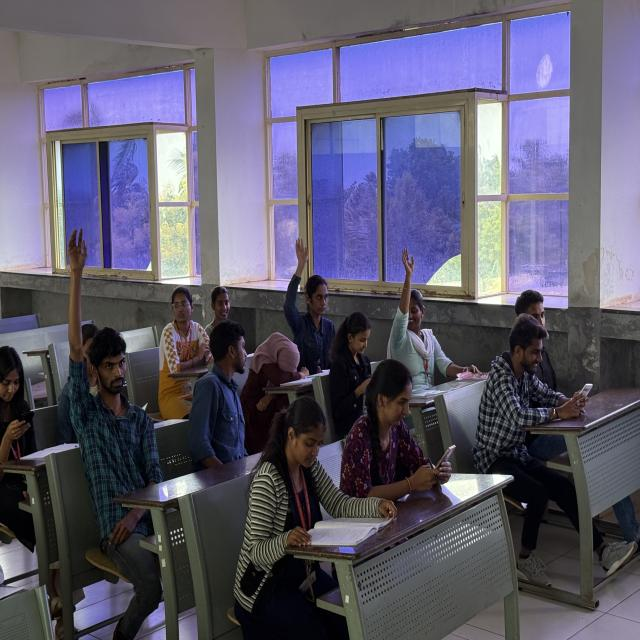Hand Rising: (57, 226, 161, 482), (392, 234, 470, 381), (286, 237, 334, 346)
Reading: (250, 397, 360, 548)
Sleeping: (248, 330, 308, 388)
Using Phone: (341, 360, 457, 494), (486, 314, 592, 423), (0, 336, 61, 494)
